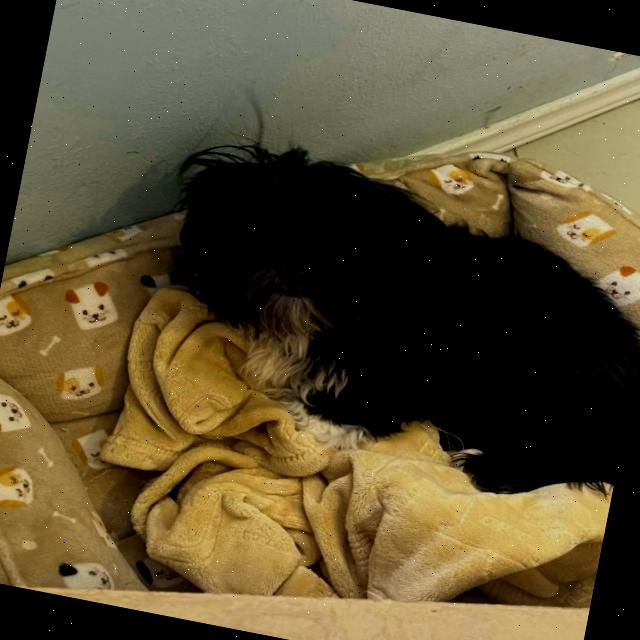shih_tzu_dog: (143, 124, 480, 386)
